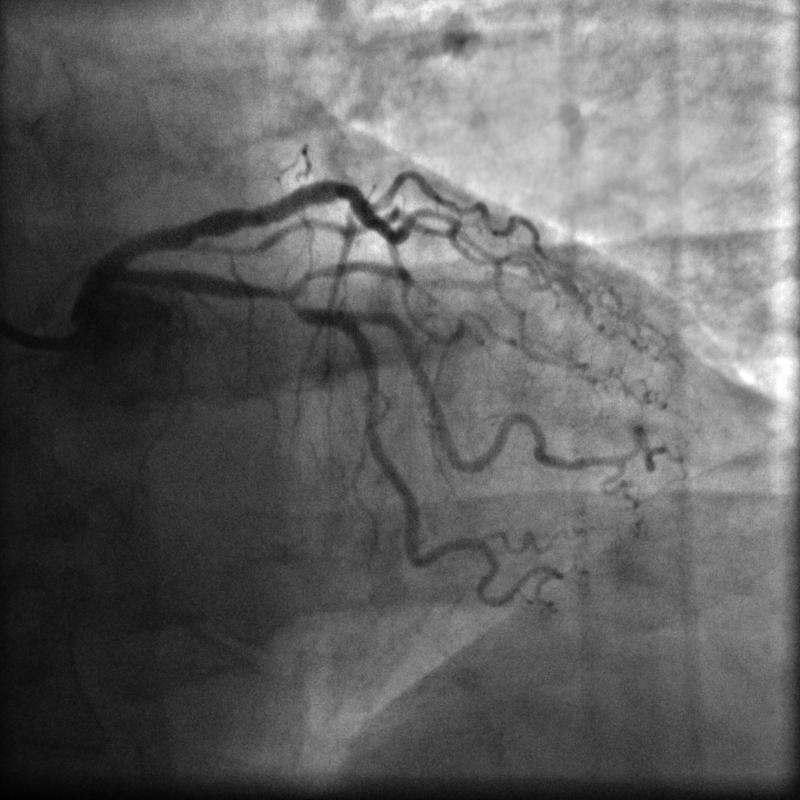Stenosis: (254, 280, 300, 305)
